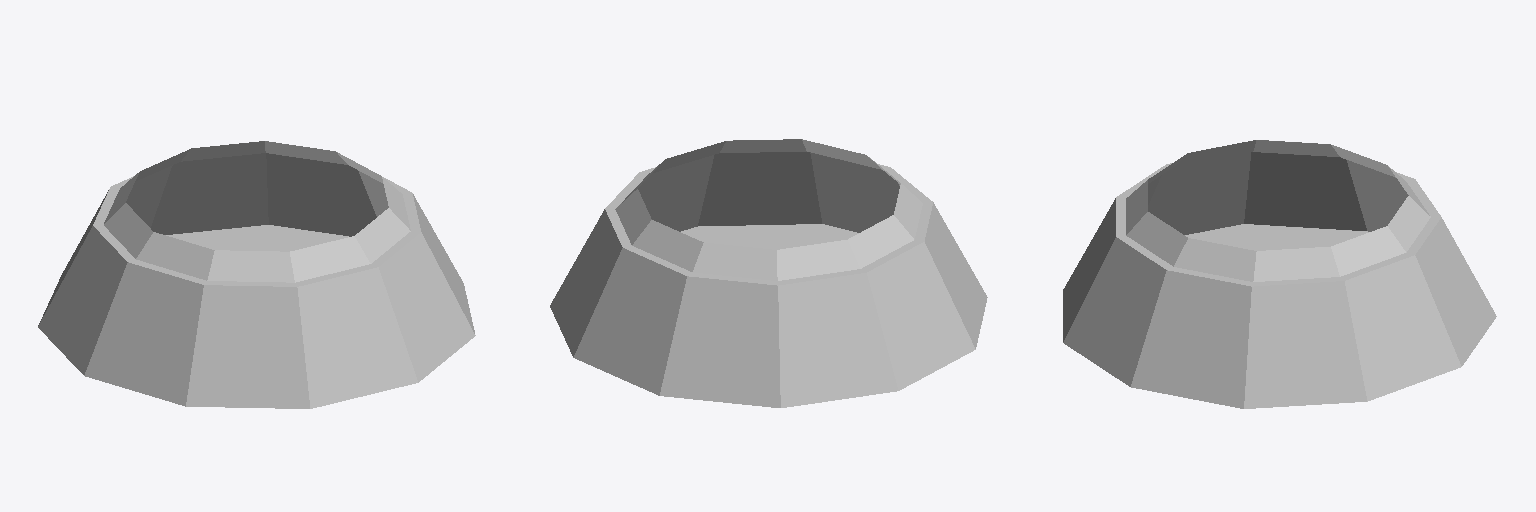
The model's file is MagLevOutside.obj.
The picture shows the model from 3 angles: view 1: azimuth 30°, elevation 25°; view 2: azimuth 150°, elevation 25°; view 3: azimuth 270°, elevation 25°; orthographic projection.
Visible parts, largest first — view 1: Cylinder; view 2: Cylinder; view 3: Cylinder.
Part boxes in pixels (x1,y1,x2,y2): Cylinder: (38, 141, 475, 408); Cylinder: (550, 139, 987, 407); Cylinder: (1063, 140, 1496, 408).
Size of the model in its own units: 3.96 by 1.21 by 3.92.